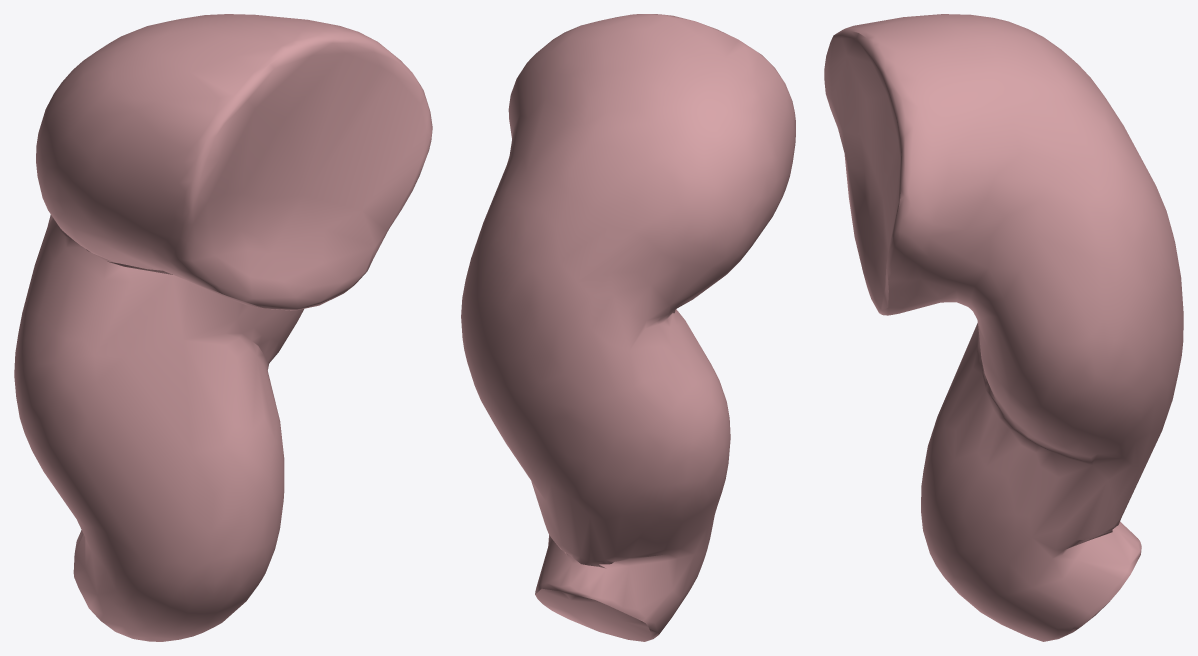
File: fma14544_fj2571.glb
3 renders of one model, left to right at view 1: azimuth 30°, elevation 25°; view 2: azimuth 150°, elevation 25°; view 3: azimuth 270°, elevation 25°, orthographic. The views are drawn at different scales.
Parts seen in each view (by area): view 1: FMA14544_FJ2571; view 2: FMA14544_FJ2571; view 3: FMA14544_FJ2571.
Boxes of the visible parts, x1,y1,x2,y2 form: FMA14544_FJ2571: [14, 14, 432, 641]; FMA14544_FJ2571: [461, 14, 795, 641]; FMA14544_FJ2571: [824, 14, 1183, 641].
Size of the model in its own units: 0.0616 by 0.1166 by 0.0623.
